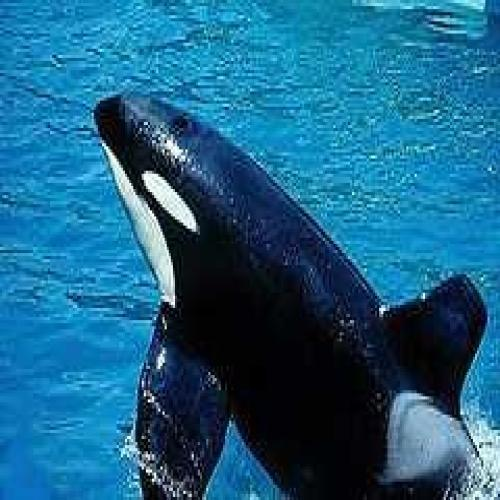killer_whale-endangered: (82, 69, 492, 500)
